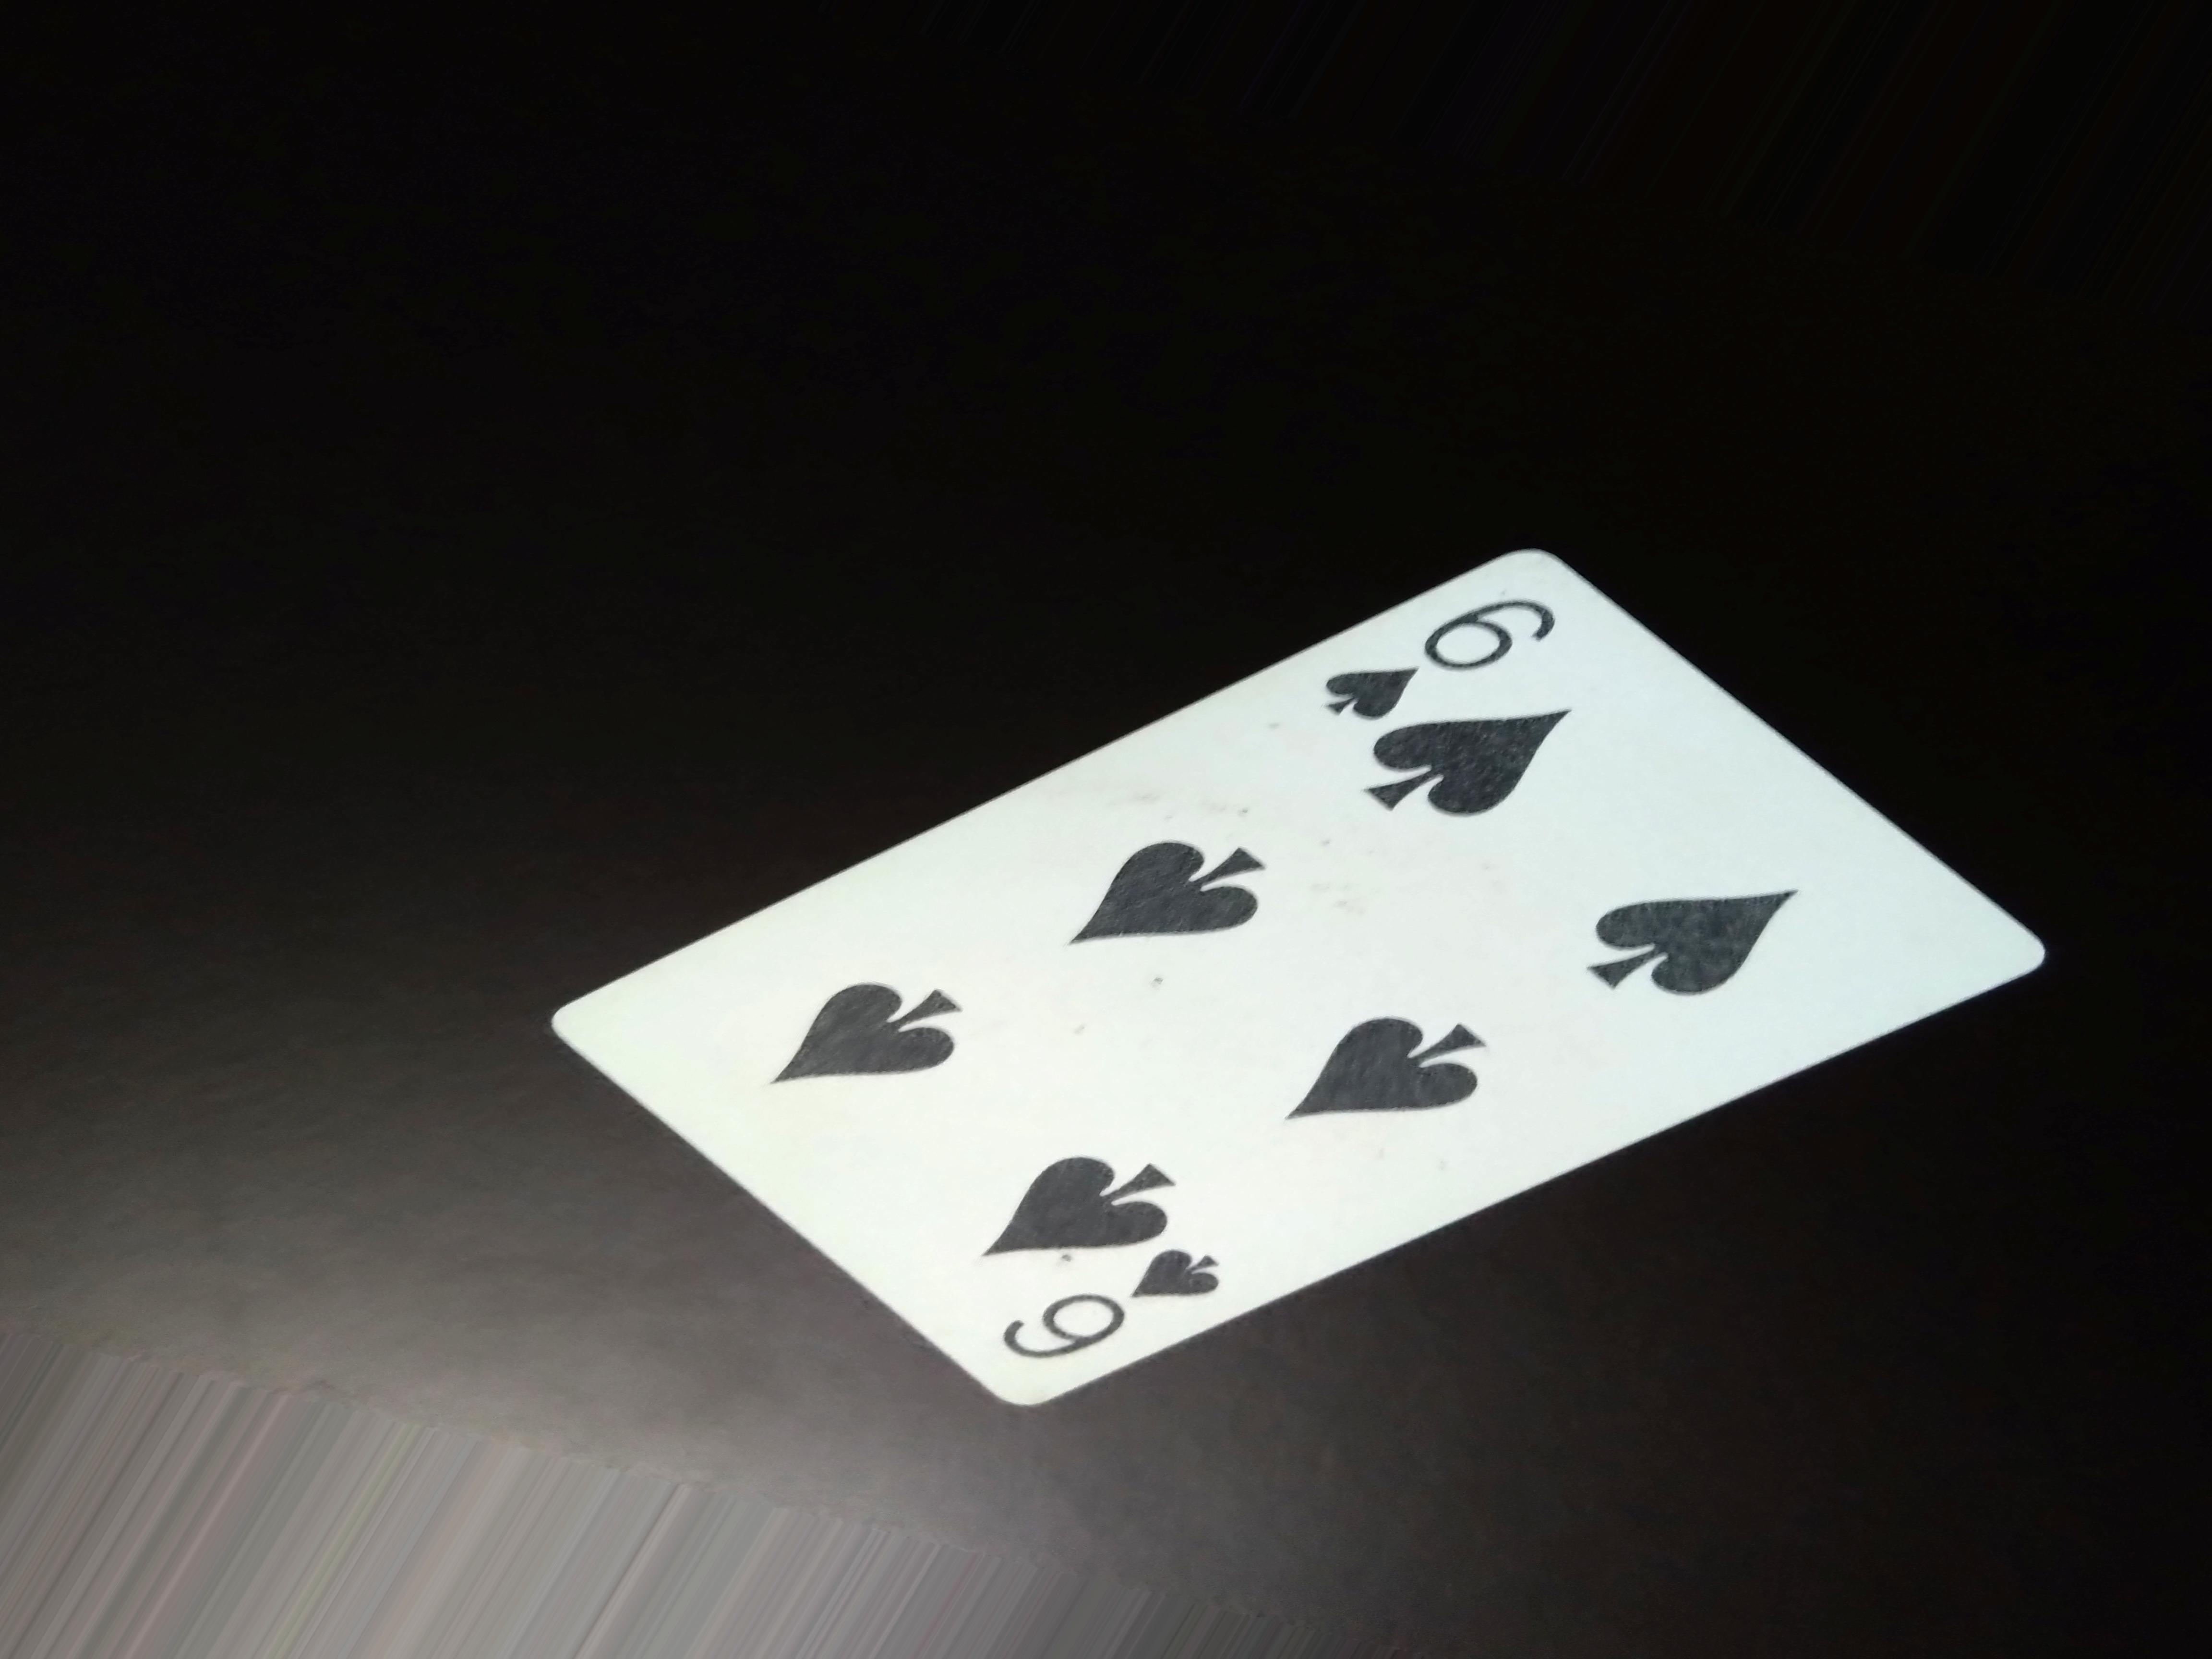6S: (1327, 563, 1557, 720)
